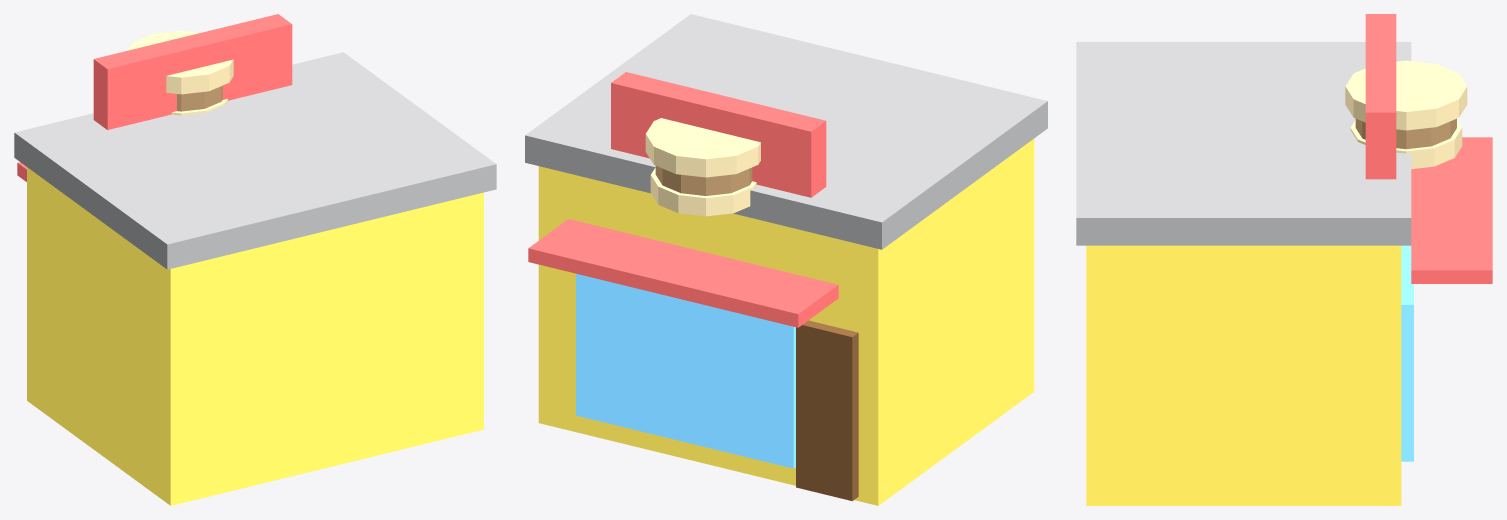
The model's file is burger.glb.
3 views of the same model, side by side, from view 1: azimuth 30°, elevation 25°; view 2: azimuth 150°, elevation 25°; view 3: azimuth 270°, elevation 25° (orthographic). The views are drawn at different scales.
Visible parts, largest first — view 1: burger; view 2: burger; view 3: burger.
Part boxes in pixels (x1,y1,x2,y2): burger: (14,14,496,505); burger: (525,14,1047,505); burger: (1076,14,1492,505).
Bounding box in the file's own units: 0.82 × 0.78 × 0.82.
